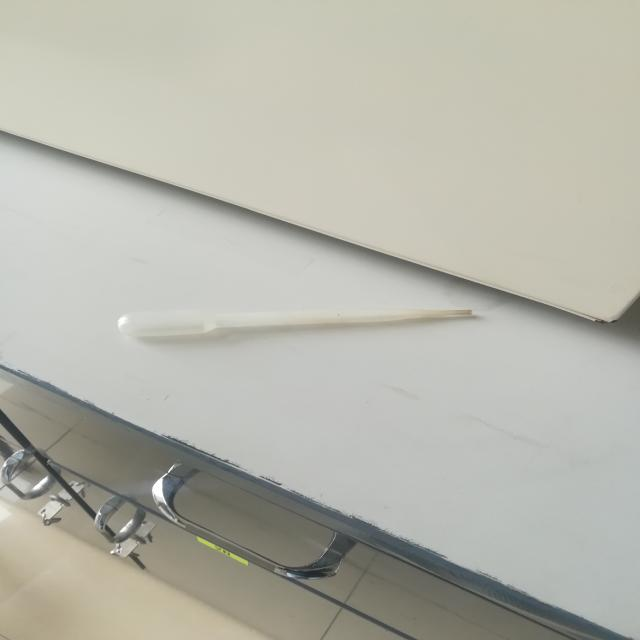Pipette: (85, 282, 508, 374)
